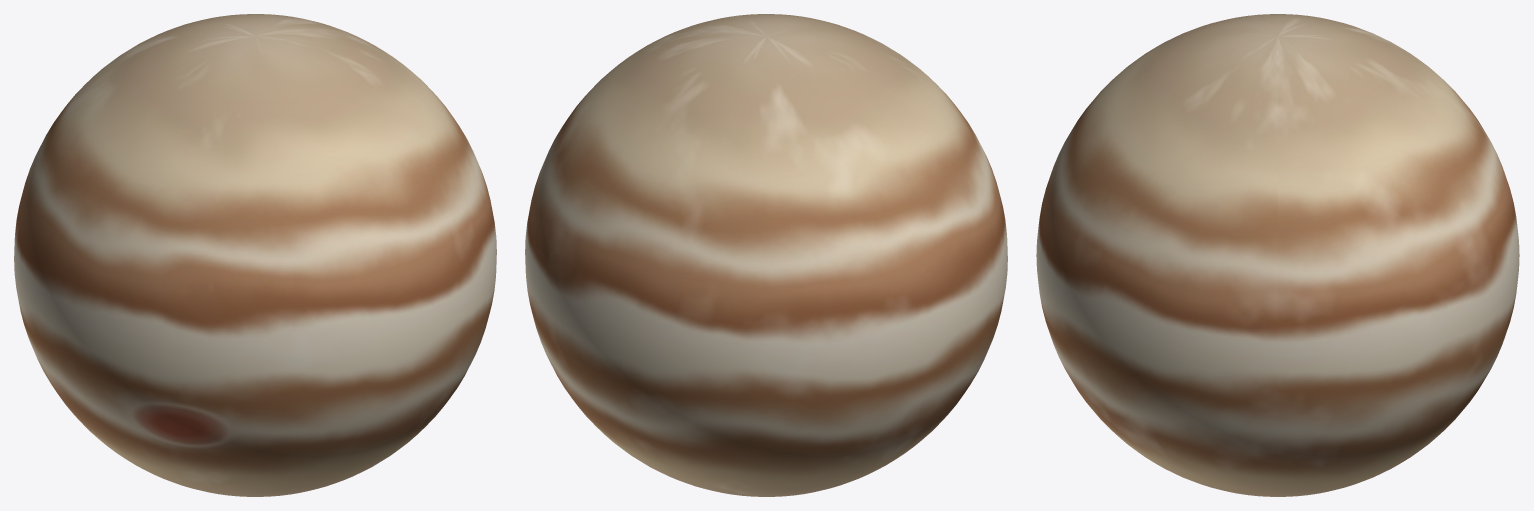
Rendered from planet_jupiter.glb.
3 views of the same model, side by side, from view 1: azimuth 30°, elevation 25°; view 2: azimuth 150°, elevation 25°; view 3: azimuth 270°, elevation 25° (orthographic).
Parts seen in each view (by area): view 1: planet_jupiter; view 2: planet_jupiter; view 3: planet_jupiter.
Part boxes in pixels (left/top/right/bottom): planet_jupiter: left=14, top=14, right=496, bottom=496; planet_jupiter: left=525, top=14, right=1007, bottom=496; planet_jupiter: left=1036, top=14, right=1519, bottom=496.
Bounding box in the file's own units: 1 × 1 × 1.
Materials: 1 (1 with a texture image).
